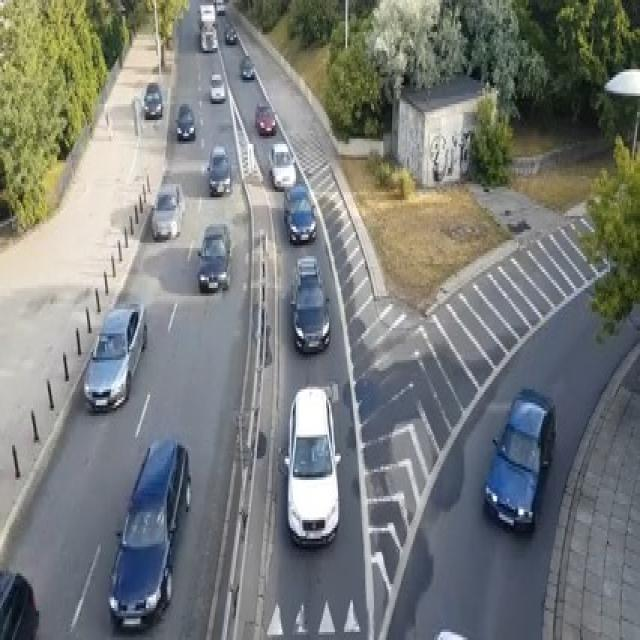car: (106, 435, 190, 629), (482, 387, 556, 533), (282, 384, 341, 547), (83, 301, 147, 411), (288, 253, 330, 352), (0, 568, 39, 637), (197, 222, 231, 294), (282, 181, 317, 243), (150, 181, 185, 240), (267, 142, 296, 190), (206, 144, 231, 195), (174, 102, 196, 142), (254, 99, 276, 136), (143, 83, 162, 117), (200, 24, 218, 51), (209, 72, 225, 101), (239, 53, 255, 80), (198, 2, 215, 26), (224, 21, 237, 43), (213, 0, 225, 13)
